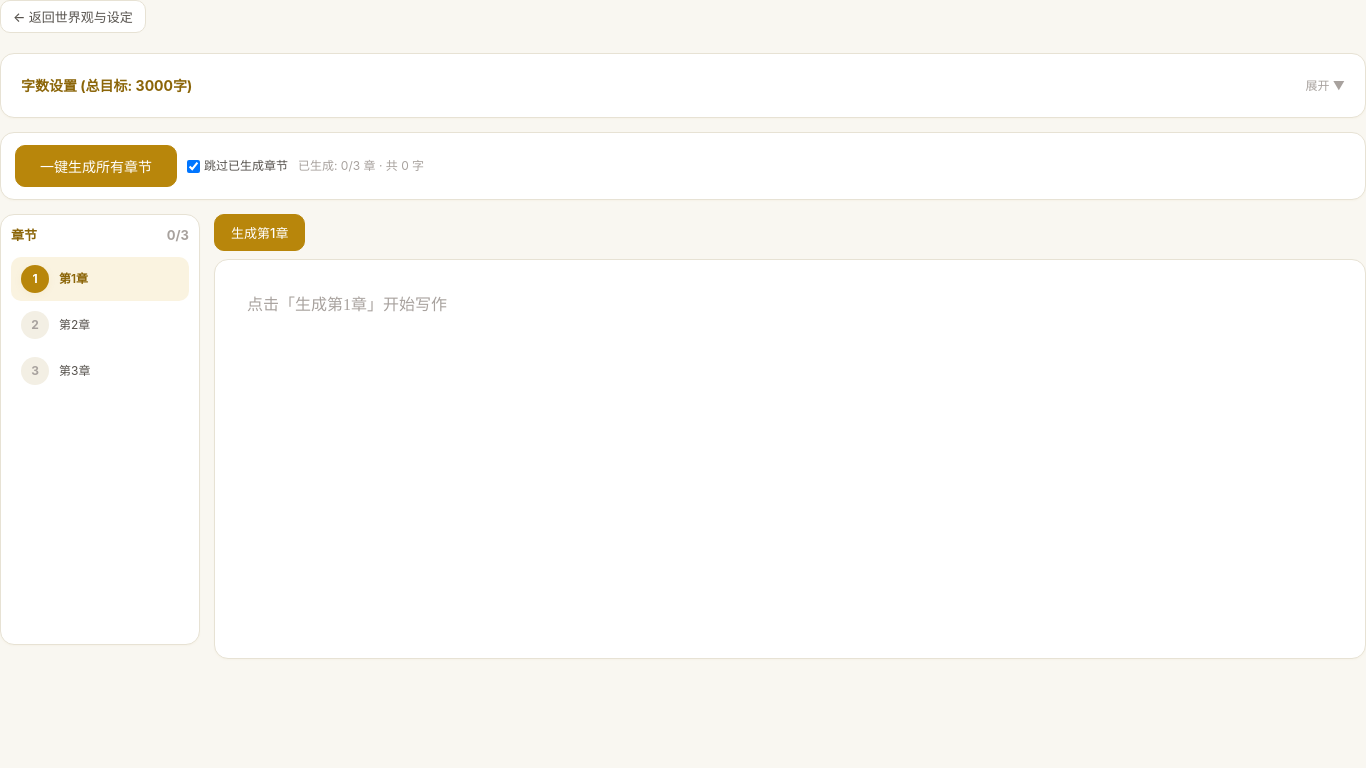
Test case: ChapterWriter legacy compatibility characterization › renders a single chapter stream in order and refreshes once after complete
Click the button "生成第1章" at (260, 233), box [214, 214, 305, 251]
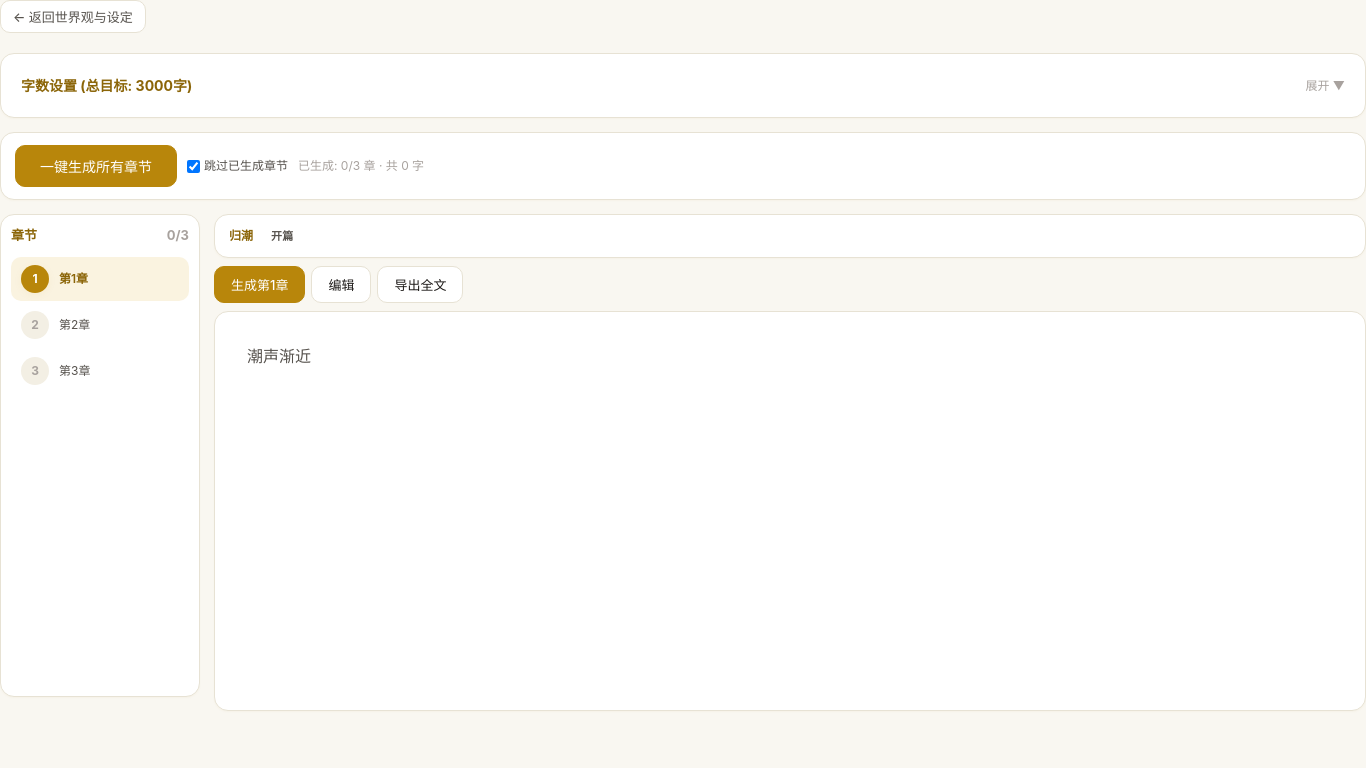
Check: the text "潮声渐近" is shown, box [214, 311, 1365, 711]
Check: the text "归潮" is shown, box [229, 226, 253, 246]
Click the button "编辑" at (341, 285), box [311, 266, 371, 303]
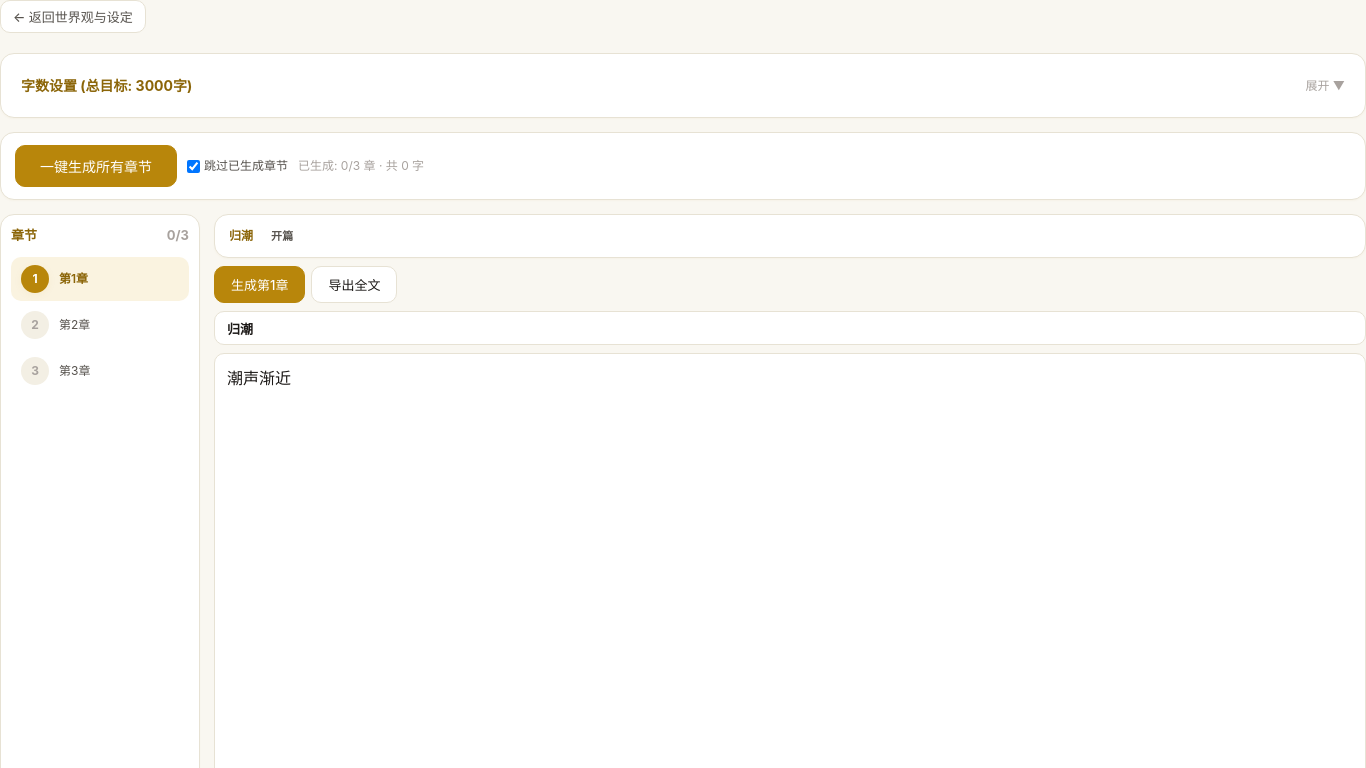
Check: the field showing "归潮" is shown, box [214, 311, 1365, 345]
